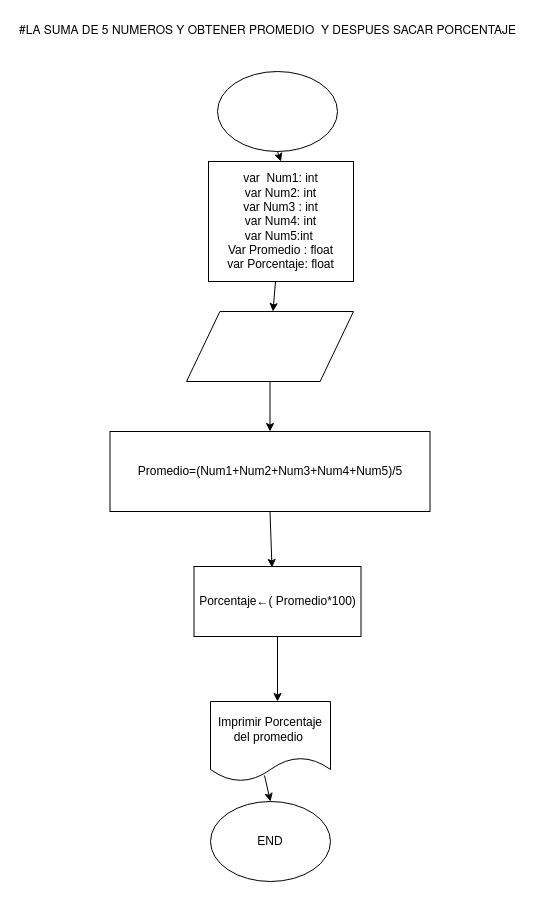
This 536x899 diagram has some shape labels left out. Here are the shapes that lost their labels. From the top down, the centre of each, then its label:
At point (277, 111): "BEGIN".
At point (270, 346): "Read Num1,Num2,Num3,Num4,Num5".
